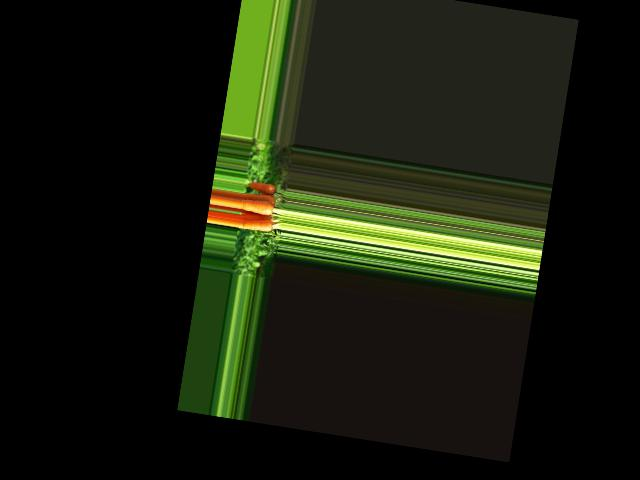carrot: (242, 177, 278, 197)
